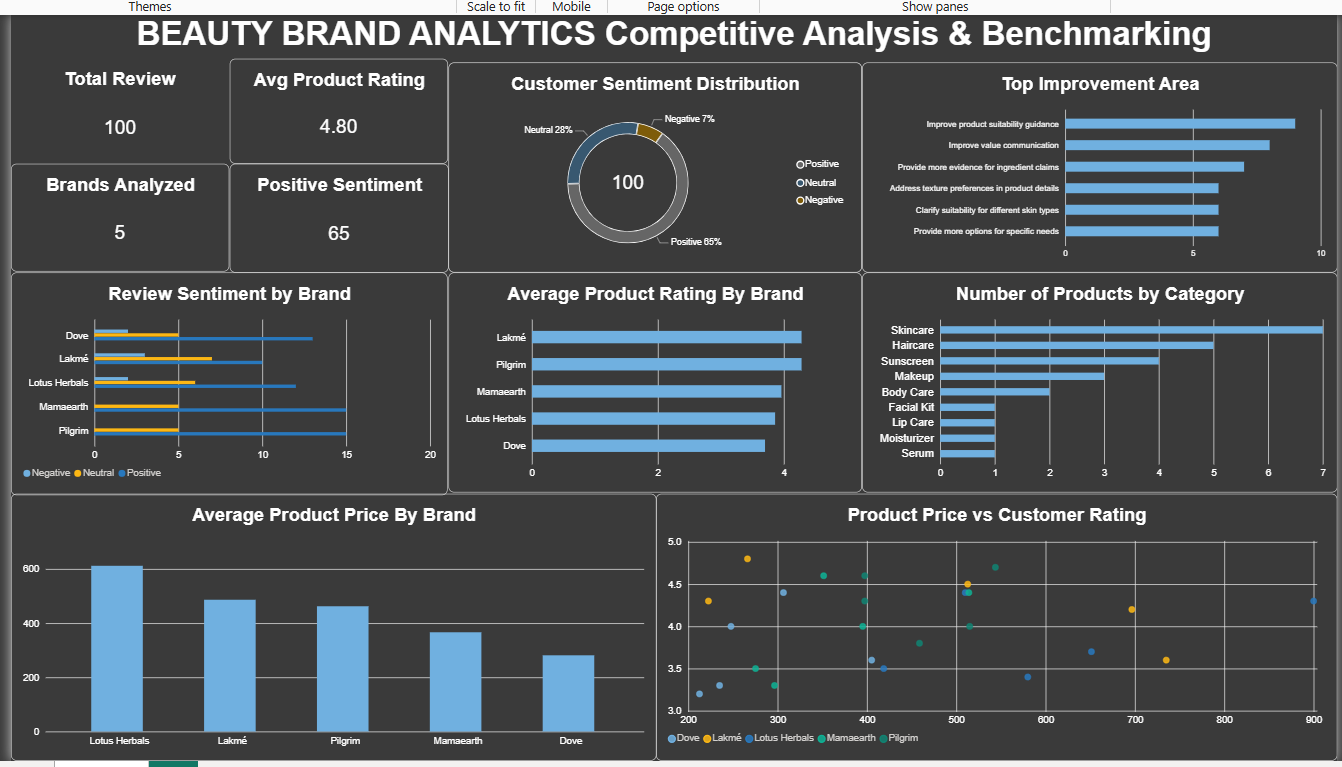

The dashboard page shown, as its layout file describes it:
{"tool":"powerbi","page":{"name":"Page 1","canvas":[1920,1080],"ordinal":0},"visuals":[{"type":"kpi","title":"Total Review","fields":{"Indicator":["CountNonNull(100_Rows_Data.Review_ID)"],"TrendLine":["100_Rows_Data.Review_Source"]},"box":[0,64,316,156],"z":0},{"type":"kpi","title":"Avg Product Rating","fields":{"Indicator":["Avg(100_Rows_Data.Rating_Out_of_5)"],"TrendLine":["100_Rows_Data.Rating_Out_of_5"]},"box":[316,64,316,152],"z":1},{"type":"kpi","title":"Brands Analyzed  ","fields":{"Indicator":["Count(100_Rows_Data.Brand)"],"TrendLine":["100_Rows_Data.Review_Source"]},"box":[0,216,316,156],"z":2},{"type":"donutChart","title":"Customer Sentiment Distribution","fields":{"Category":["100_Rows_Data.Sentiment"],"Y":["CountNonNull(100_Rows_Data.Review_ID)"]},"box":[634,68,598,304],"z":5},{"type":"columnChart","title":"Average Product Price By Brand","fields":{"Category":["100_Rows_Data.Brand"],"Y":["Avg(100_Rows_Data.Price_INR)"]},"box":[0,694,934,386],"z":6},{"type":"clusteredBarChart","title":"Review Sentiment by Brand","fields":{"Category":["100_Rows_Data.Brand"],"Series":["100_Rows_Data.Sentiment"],"Y":["CountNonNull(100_Rows_Data.Review_ID)"]},"box":[0,372,632,322],"z":7},{"type":"textbox","title":"BEAUTY BRAND ANALYTICS Competitive Analysis & Benchmarking","box":[0,202.7,1920,92],"z":10},{"type":"clusteredBarChart","title":"Number of Products by Category","fields":{"Category":["100_Rows_Data.Product_Category"],"Y":["Count(100_Rows_Data.Product_Name)"]},"box":[1232,372,688,318],"z":11},{"type":"scatterChart","title":"Product Price vs Customer Rating","fields":{"Category":["100_Rows_Data.Product_Name"],"Series":["100_Rows_Data.Brand"],"X":["Avg(100_Rows_Data.Price_INR)"],"Y":["Avg(100_Rows_Data.Rating_Out_of_5)"]},"box":[934,694,986,386],"z":12},{"type":"clusteredBarChart","title":" Top  Improvement Area","fields":{"Category":["100_Rows_Data.Improvement_Area"],"Y":["CountNonNull(100_Rows_Data.Review_ID)"]},"box":[1232,68,688,304],"z":13},{"type":"barChart","title":"Average Product Rating By Brand","fields":{"Category":["100_Rows_Data.Brand"],"Y":["Avg(100_Rows_Data.Rating_Out_of_5)"]},"box":[634,372,598,318],"z":14},{"type":"kpi","title":"Positive Sentiment","fields":{"Indicator":["CountNonNull(100_Rows_Data.Sentiment)"],"TrendLine":["100_Rows_Data.Sentiment"]},"box":[316.7,215.3,316.7,157.4],"z":15}]}

Visuals, with their boxes in screenshot pixels (x1, y1, x2, y2):
"Total Review" kpi: <bbox>7, 79, 225, 187</bbox>
"Avg Product Rating" kpi: <bbox>225, 79, 443, 184</bbox>
"Brands Analyzed  " kpi: <bbox>7, 184, 225, 291</bbox>
"Customer Sentiment Distribution" donutChart: <bbox>444, 82, 856, 291</bbox>
"Average Product Price By Brand" columnChart: <bbox>7, 513, 651, 766</bbox>
"Review Sentiment by Brand" clusteredBarChart: <bbox>7, 291, 443, 513</bbox>
"BEAUTY BRAND ANALYTICS Competitive Analysis & Benchmarking" textbox: <bbox>7, 175, 1330, 238</bbox>
"Number of Products by Category" clusteredBarChart: <bbox>856, 291, 1330, 511</bbox>
"Product Price vs Customer Rating" scatterChart: <bbox>651, 513, 1330, 766</bbox>
" Top  Improvement Area" clusteredBarChart: <bbox>856, 82, 1330, 291</bbox>
"Average Product Rating By Brand" barChart: <bbox>444, 291, 856, 511</bbox>
"Positive Sentiment" kpi: <bbox>225, 183, 444, 292</bbox>
